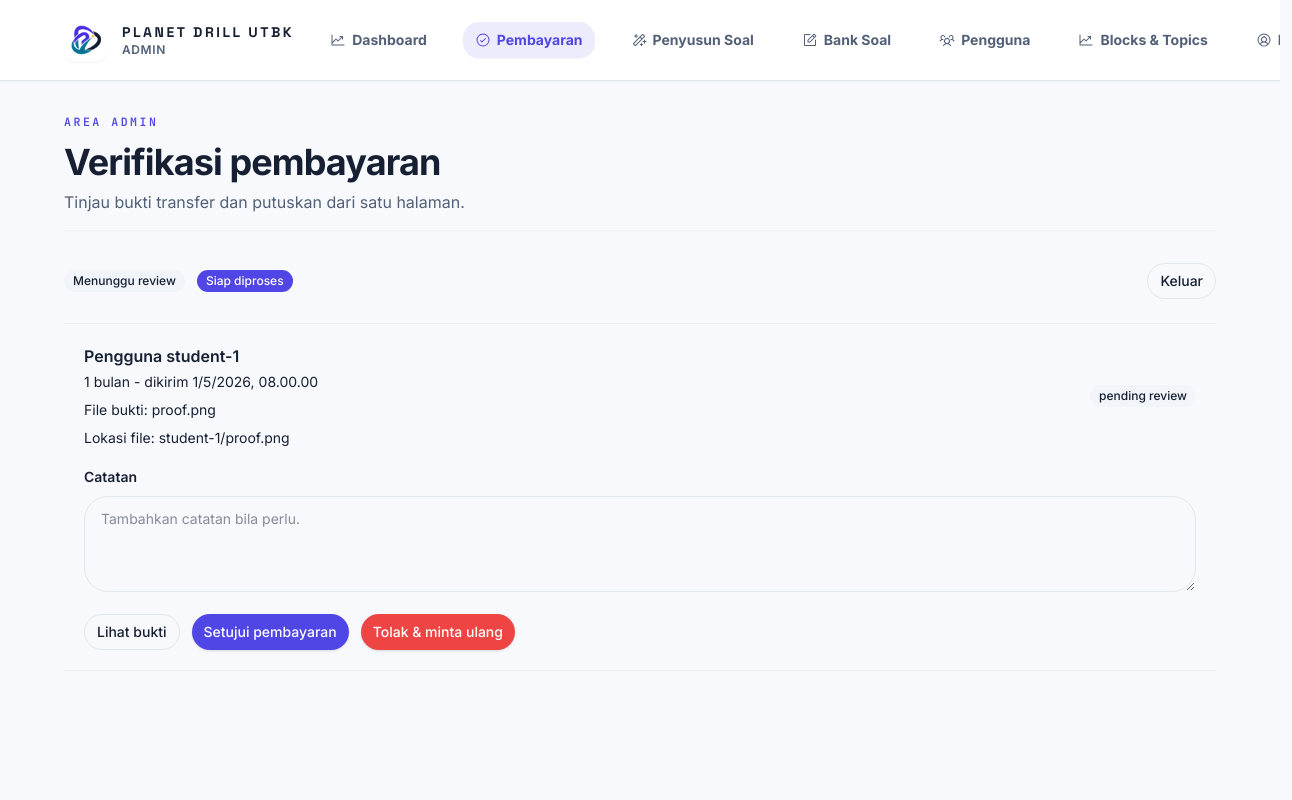
it: Payments page › surfaces an action error when already-reviewed recovery refresh also fails
Click the button "Setujui pembayaran" at [270, 632], box top-left (192, 614), bottom-right (349, 650)
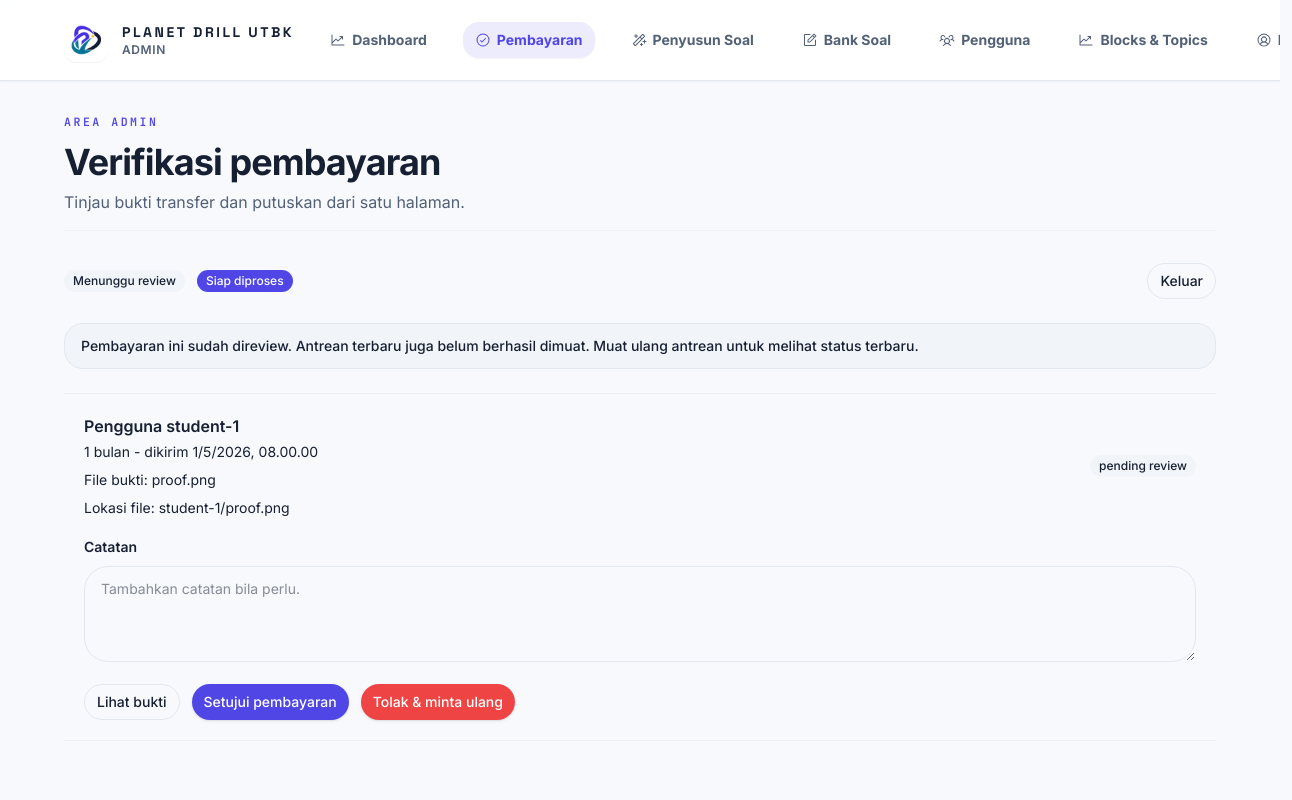
Expected: the text "Pengguna student-1" is shown, top-left (84, 416), bottom-right (239, 436)
Expected: the message shows "Pembayaran ini sudah direview", top-left (81, 337), bottom-right (919, 354)
